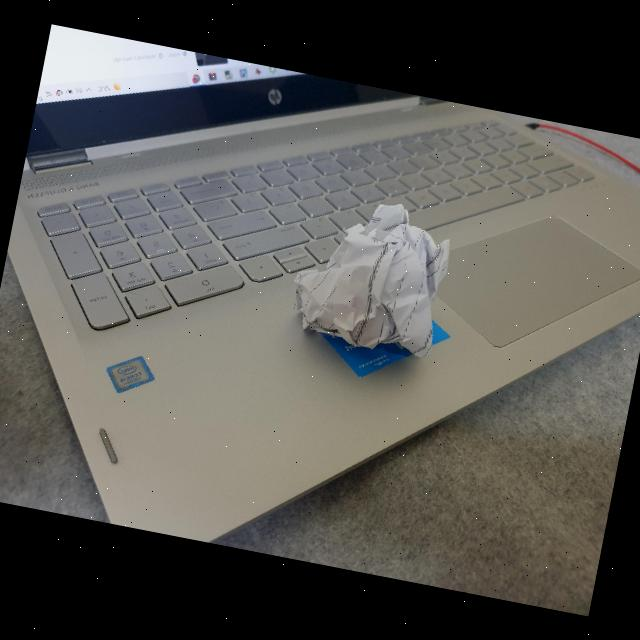trash: (276, 179, 466, 369)
